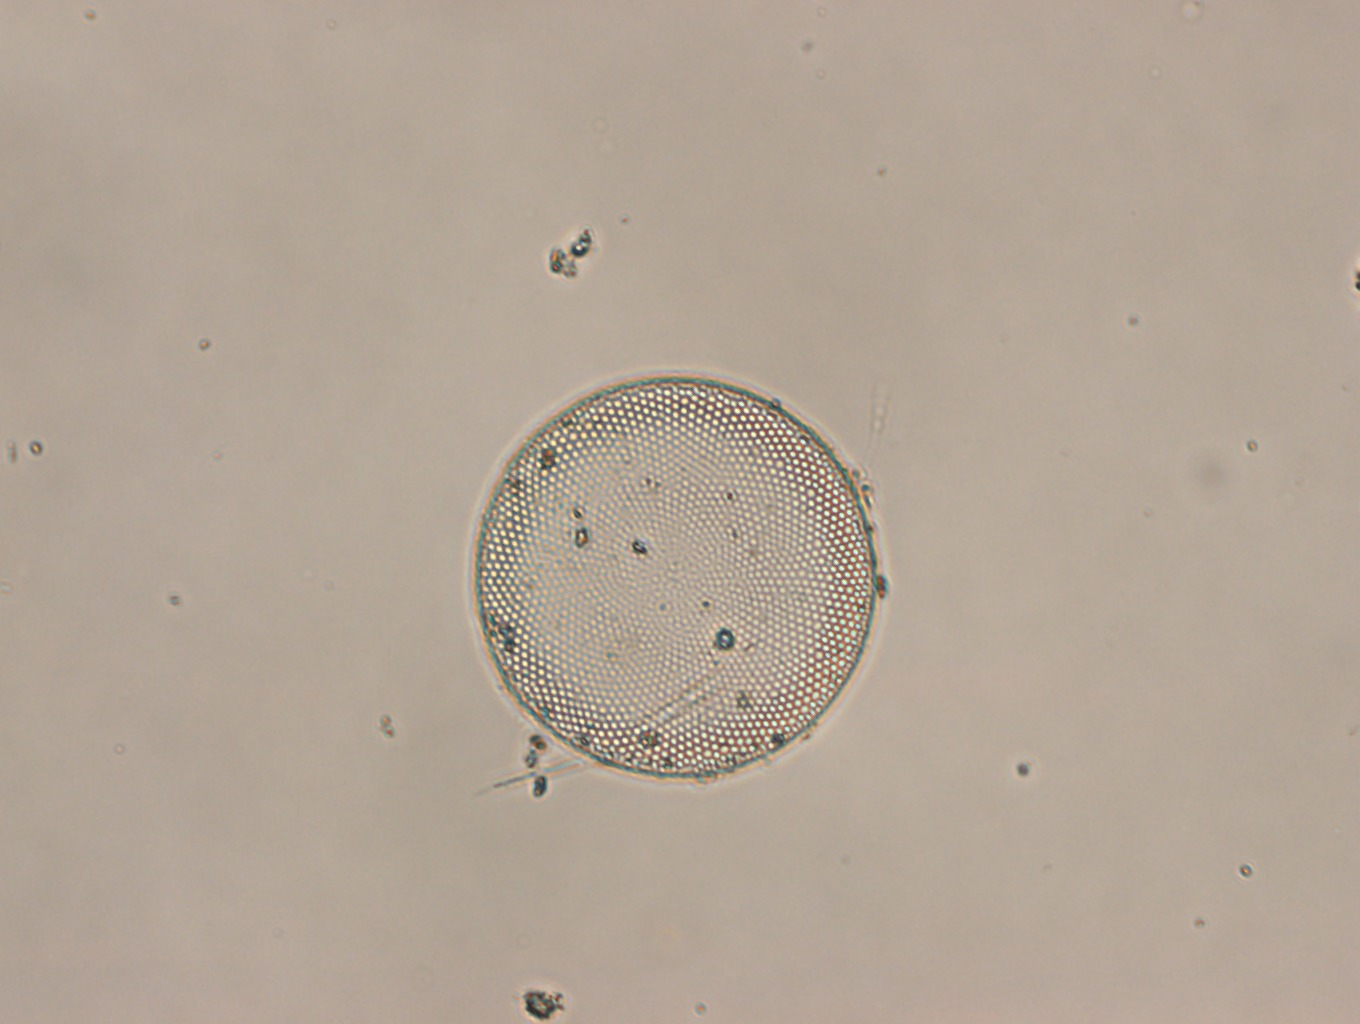coscinodiscus: (470, 376, 879, 781)
